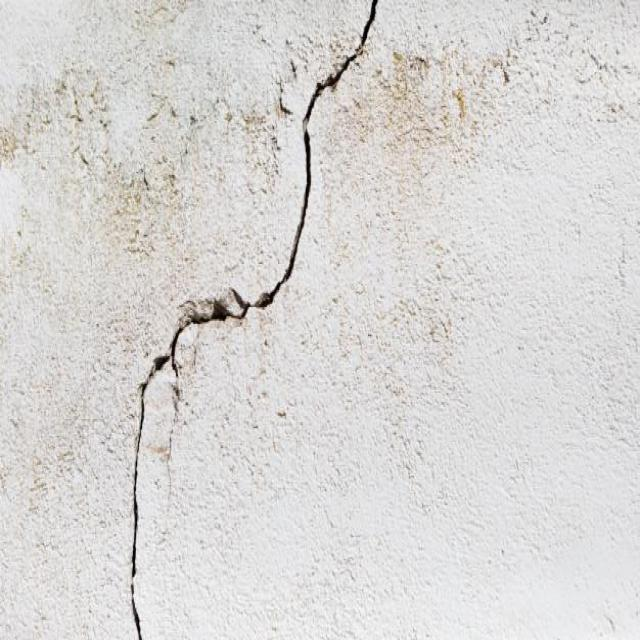vertical crack: (125, 7, 390, 636)
